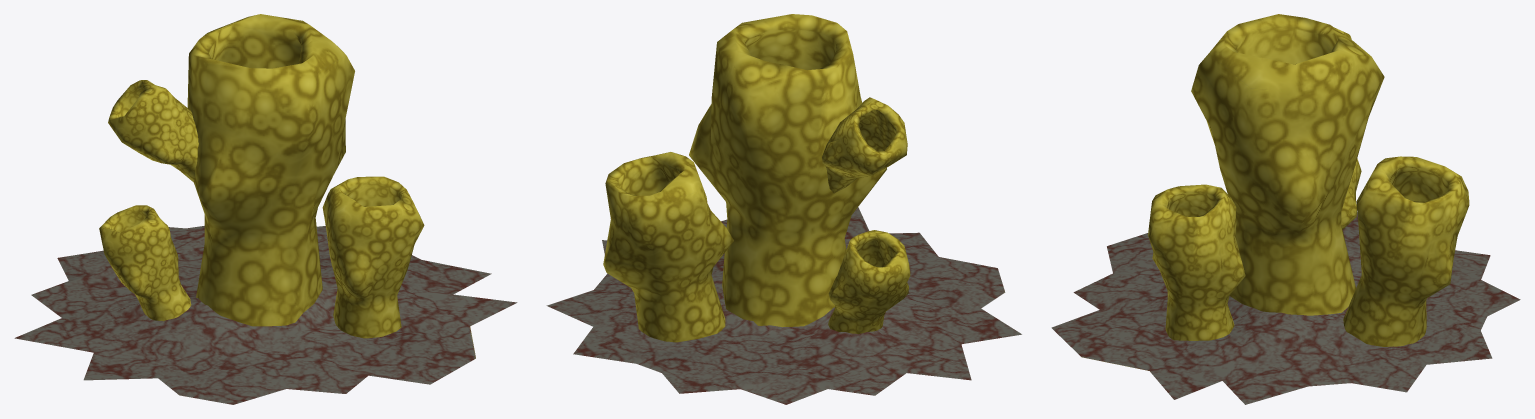
File: Sponge1.fbx
The picture shows the model from 3 angles, left to right: view 1: azimuth 30°, elevation 25°; view 2: azimuth 150°, elevation 25°; view 3: azimuth 270°, elevation 25°; orthographic projection.
Visible parts, largest first — view 1: Sponge1; view 2: Sponge1; view 3: Sponge1.
Part boxes in pixels (x1=…): Sponge1: x1=14, y1=14, x2=517, y2=404; Sponge1: x1=546, y1=14, x2=1021, y2=404; Sponge1: x1=1051, y1=14, x2=1520, y2=404.
Size of the model in its own units: 2.14 by 1.35 by 2.07.
